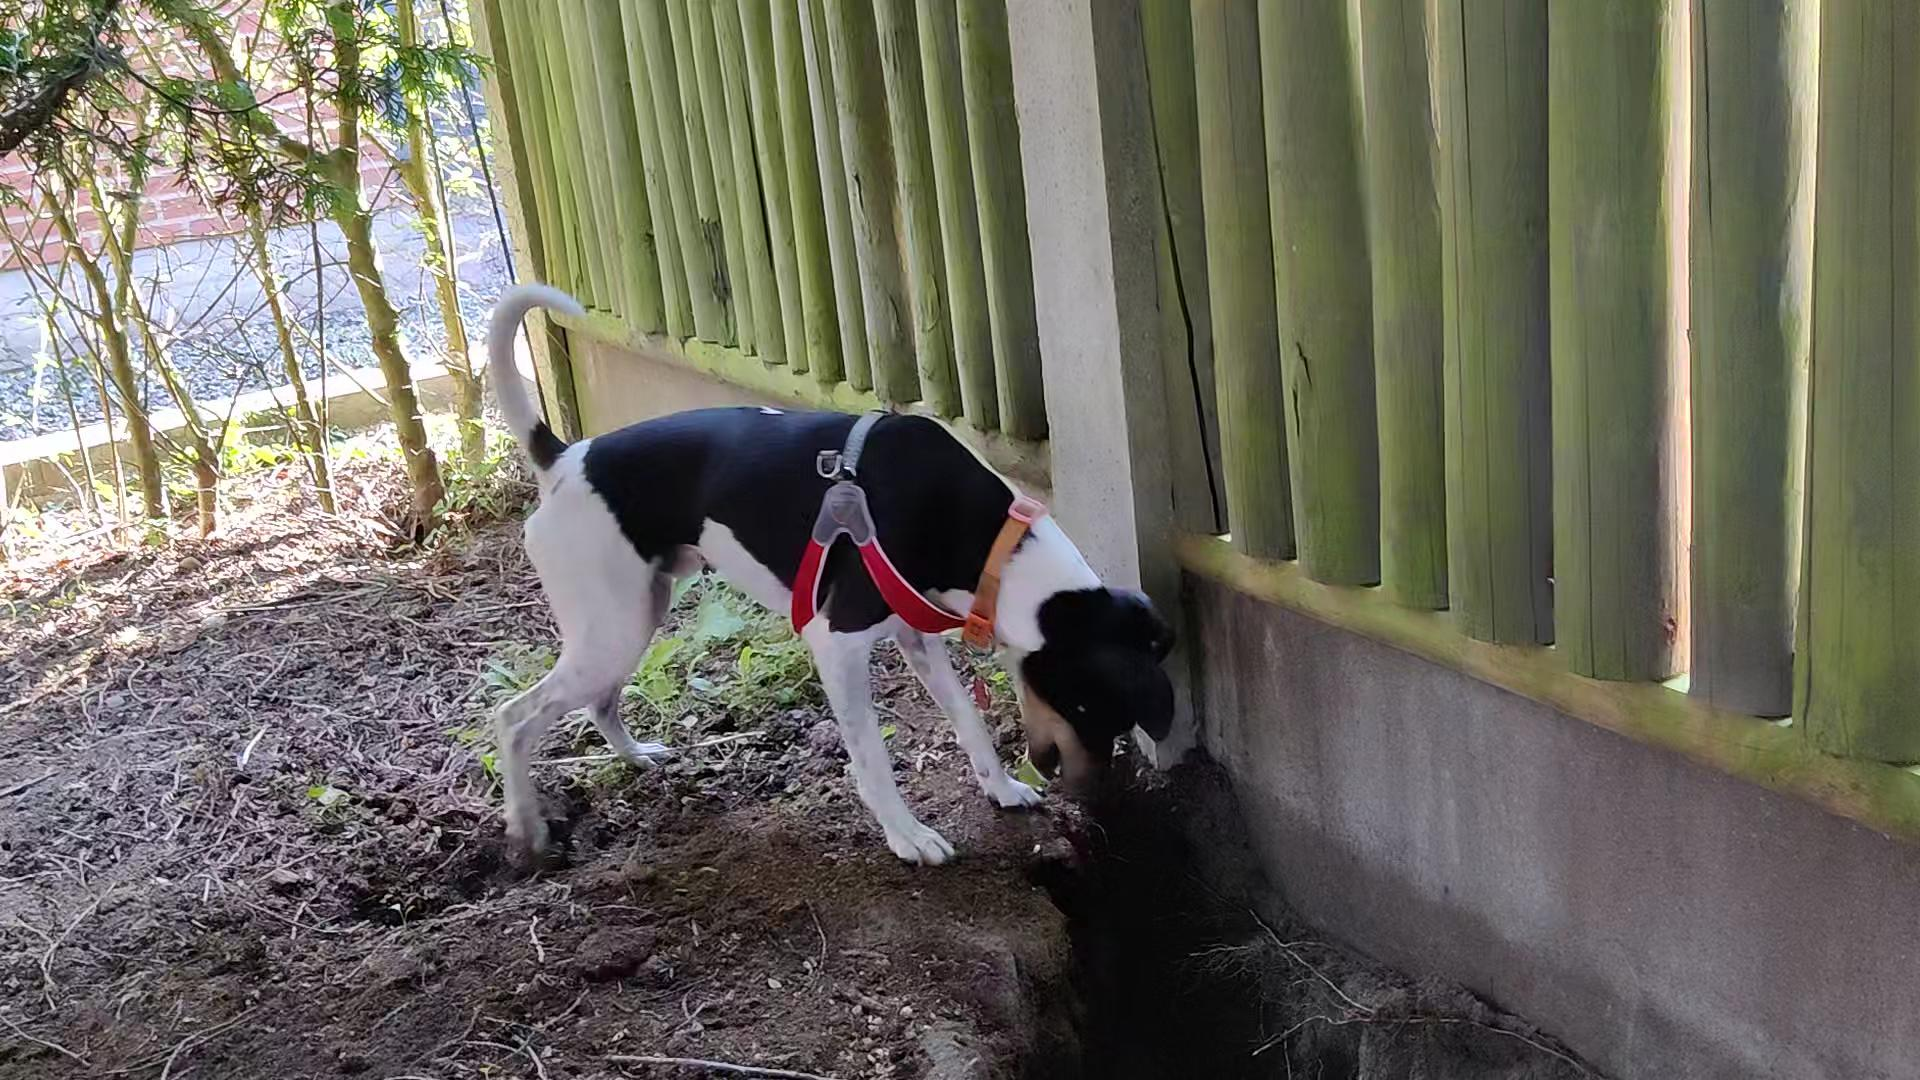Dog: (440, 262, 1197, 887)
